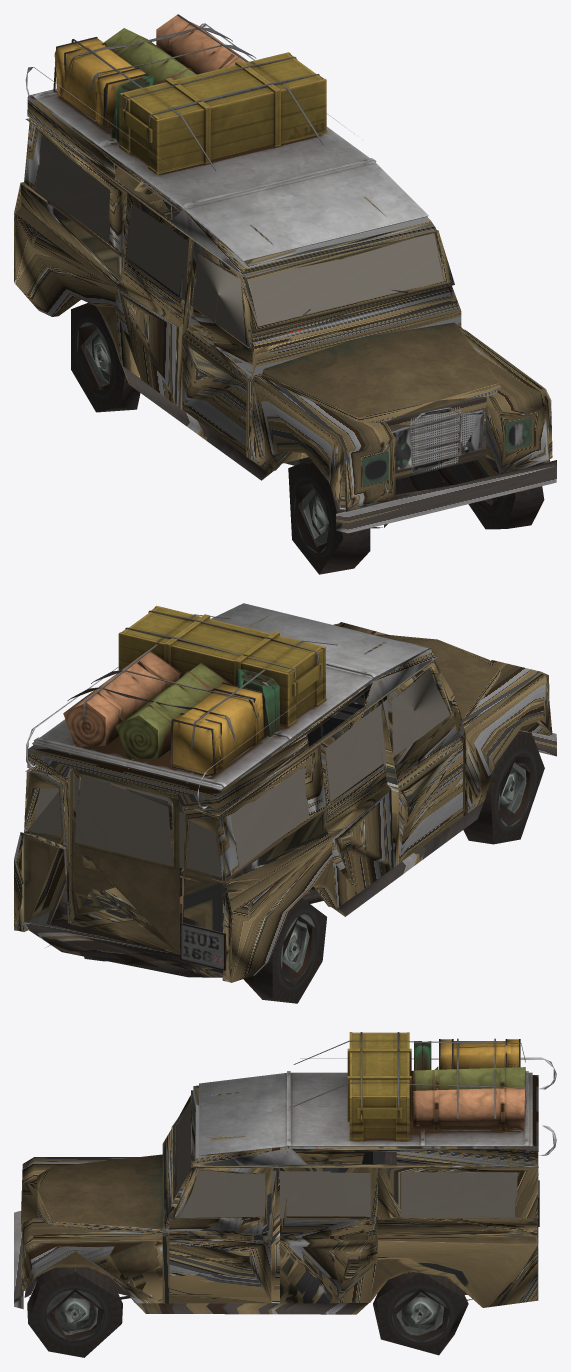
Rendered from land_rover_sand_game.gltf.
The picture shows the model from 3 angles, top to bottom: view 1: azimuth 30°, elevation 25°; view 2: azimuth 150°, elevation 25°; view 3: azimuth 270°, elevation 25°; orthographic projection. The views are drawn at different scales.
Parts seen in each view (by area): view 1: land_rover; view 2: land_rover; view 3: land_rover.
Part boxes in pixels (<box>): land_rover: <box>14,14,556,574</box>; land_rover: <box>14,603,556,1003</box>; land_rover: <box>14,1032,556,1357</box>.
Size of the model in its own units: 1.49 by 2.07 by 3.97.
6 materials, 6 textured.
